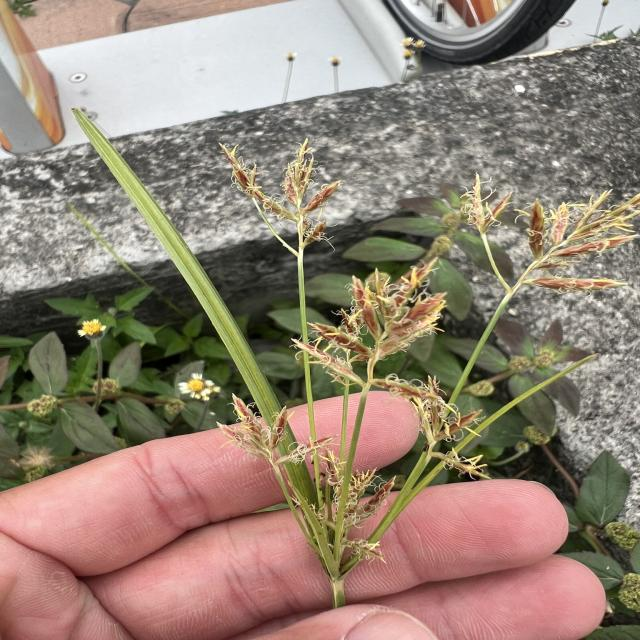cyperus: (210, 120, 640, 566), (298, 256, 495, 486), (217, 390, 394, 578), (457, 163, 635, 319), (217, 130, 343, 264)
